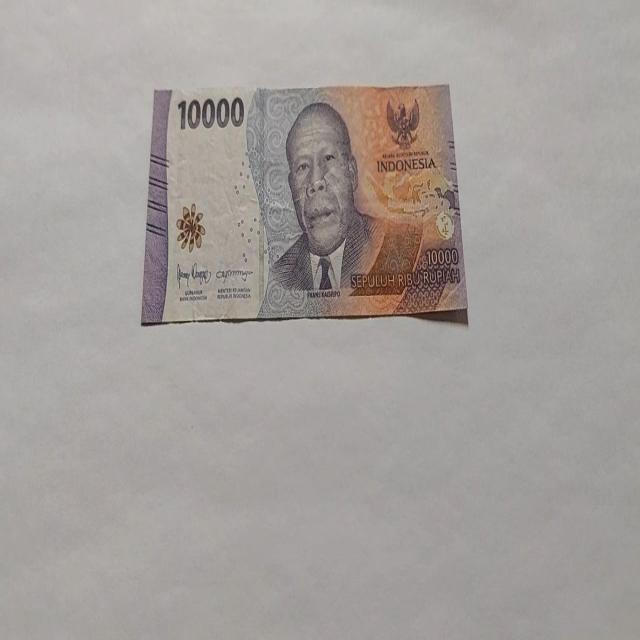Kertas: (140, 83, 468, 327)
